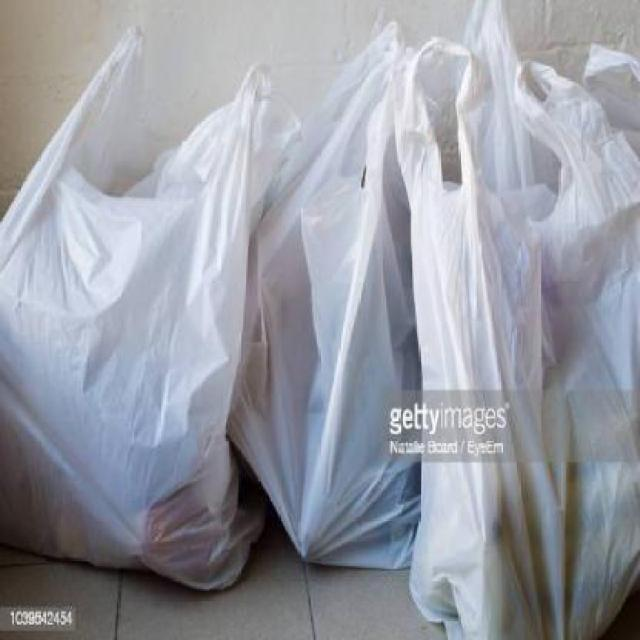plastic bag: (397, 35, 638, 632), (0, 31, 235, 594), (240, 18, 422, 638)
